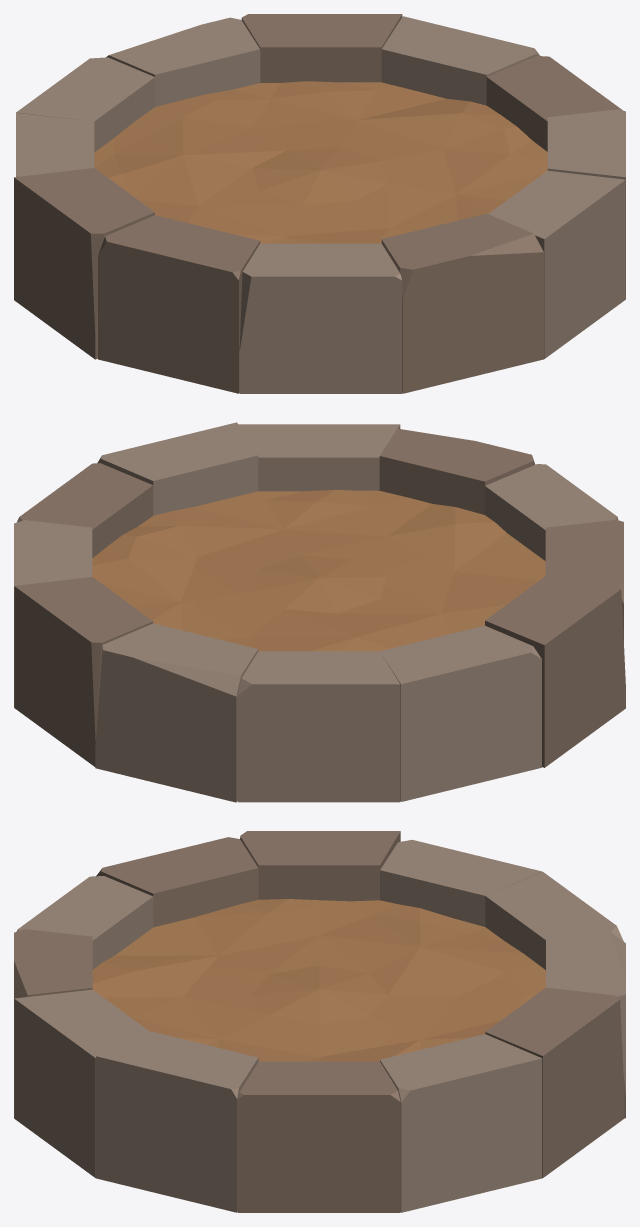
Rendered from FlowerBed_01.fbx.
The picture shows the model from 3 angles, top to bottom: view 1: azimuth 30°, elevation 25°; view 2: azimuth 150°, elevation 25°; view 3: azimuth 270°, elevation 25°; orthographic projection.
Visible parts, largest first — view 1: FlowerBed_01; view 2: FlowerBed_01; view 3: FlowerBed_01.
Boxes of the visible parts, bbox=[...] form: FlowerBed_01: bbox=[14, 14, 625, 393]; FlowerBed_01: bbox=[14, 422, 625, 802]; FlowerBed_01: bbox=[14, 831, 625, 1212].
Bounding box in the file's own units: 119 × 26.27 × 119.
